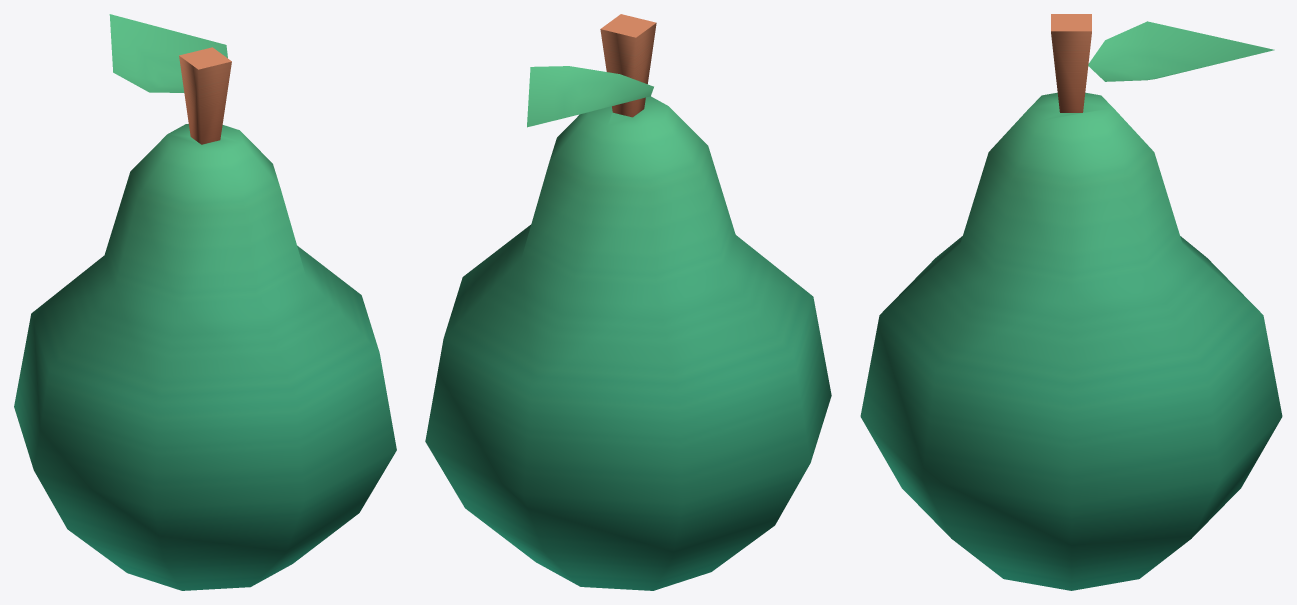
File: pear.obj
3 renders of one model, left to right at view 1: azimuth 30°, elevation 25°; view 2: azimuth 150°, elevation 25°; view 3: azimuth 270°, elevation 25°, orthographic. The views are drawn at different scales.
Parts seen in each view (by area): view 1: pear; view 2: pear; view 3: pear.
Part boxes in pixels (left/top/right/bottom): pear: left=14, top=14, right=396, bottom=590; pear: left=425, top=14, right=831, bottom=590; pear: left=860, top=14, right=1282, bottom=590.
Bounding box in the file's own units: 0.1963 × 0.2708 × 0.1963.
1 material, 1 textured.
